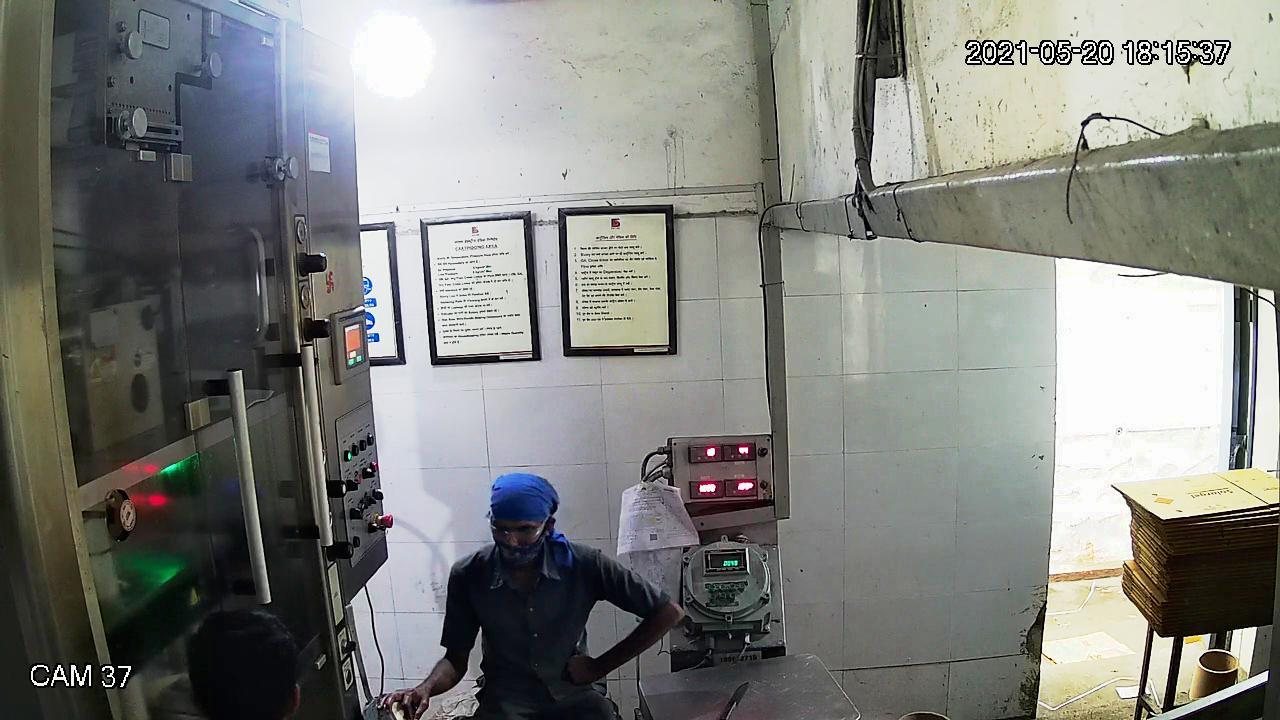person: (396, 469, 687, 720)
welding-glass: (483, 507, 551, 548)
